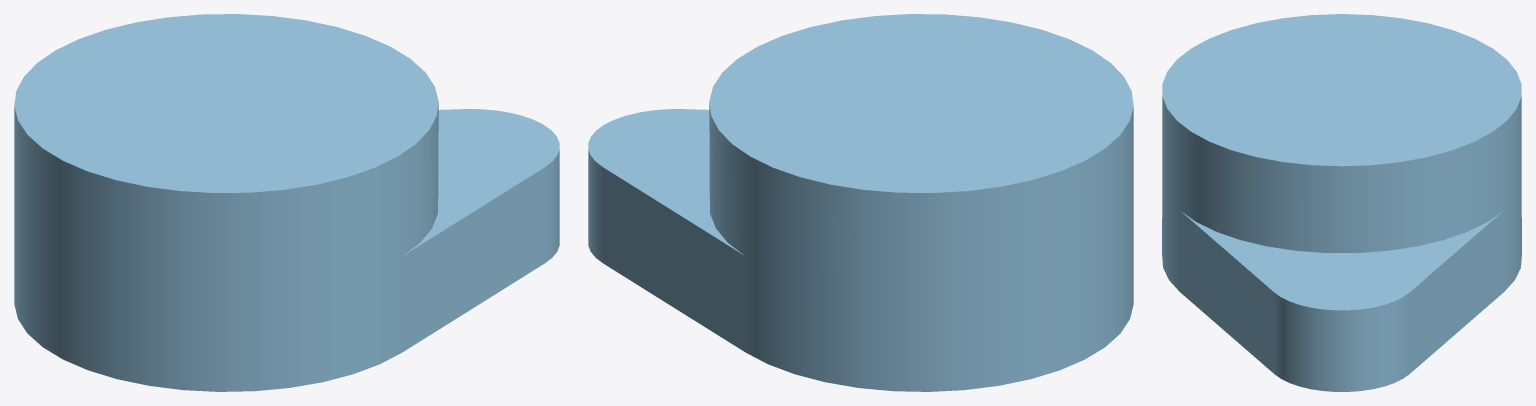
File: scan_link.dae
The picture shows the model from 3 angles, left to right: view 1: azimuth 30°, elevation 25°; view 2: azimuth 150°, elevation 25°; view 3: azimuth 270°, elevation 25°; orthographic projection. The views are drawn at different scales.
Visible parts, largest first — view 1: ID2; view 2: ID2; view 3: ID2.
Boxes of the visible parts, x1,y1,x2,y2 form: ID2: (14,14,559,391); ID2: (588,14,1133,391); ID2: (1162,14,1521,391).
Size of the model in its own units: 0.0825 by 0.0599 by 0.031.
